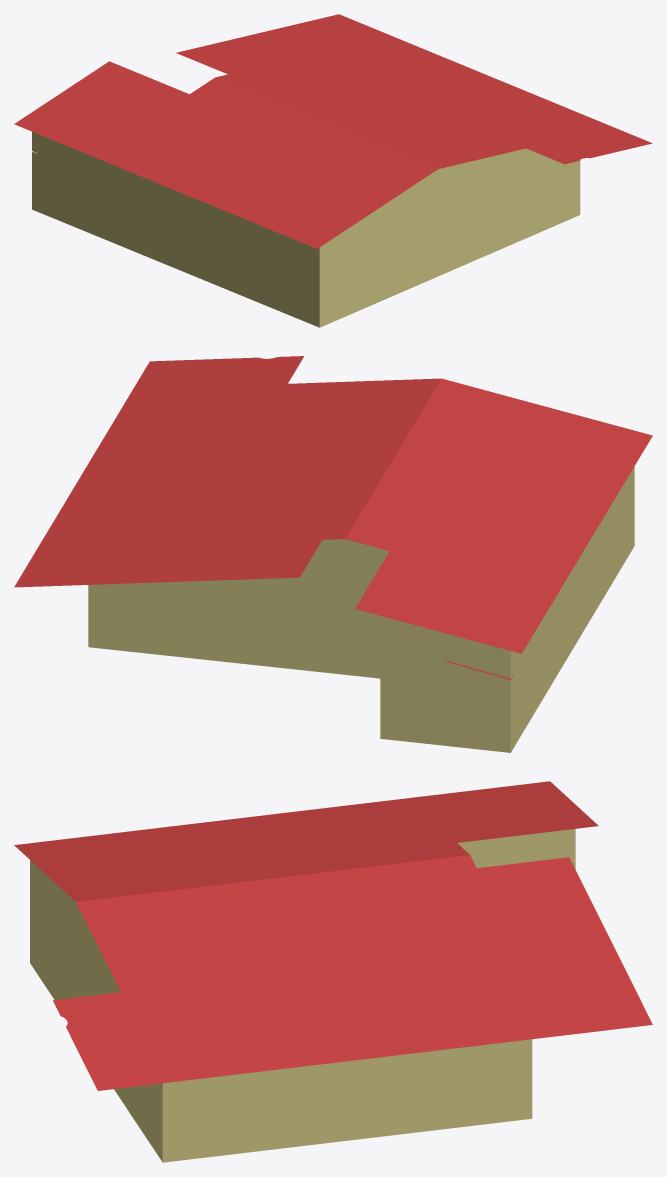
3 views of the same model, one above another, from view 1: azimuth 30°, elevation 25°; view 2: azimuth 150°, elevation 25°; view 3: azimuth 270°, elevation 25° (orthographic). The views are drawn at different scales.
Bounding box in the file's own units: 44.52 × 40.07 × 10.25.
